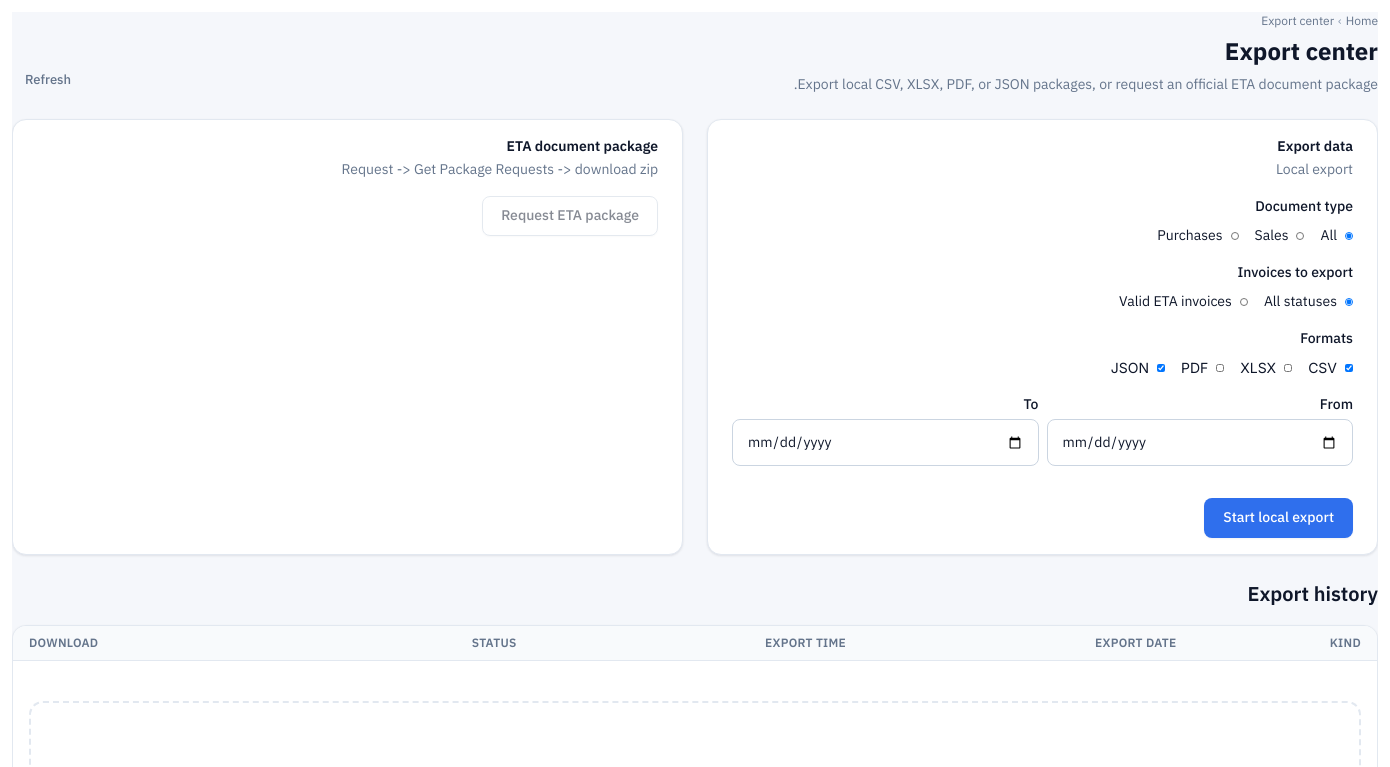
exports page › disables local export when no formats are selected
Step 1. Click the checkbox labelled "CSV" → x=1349, y=368, box 1345,364 -> 1353,372
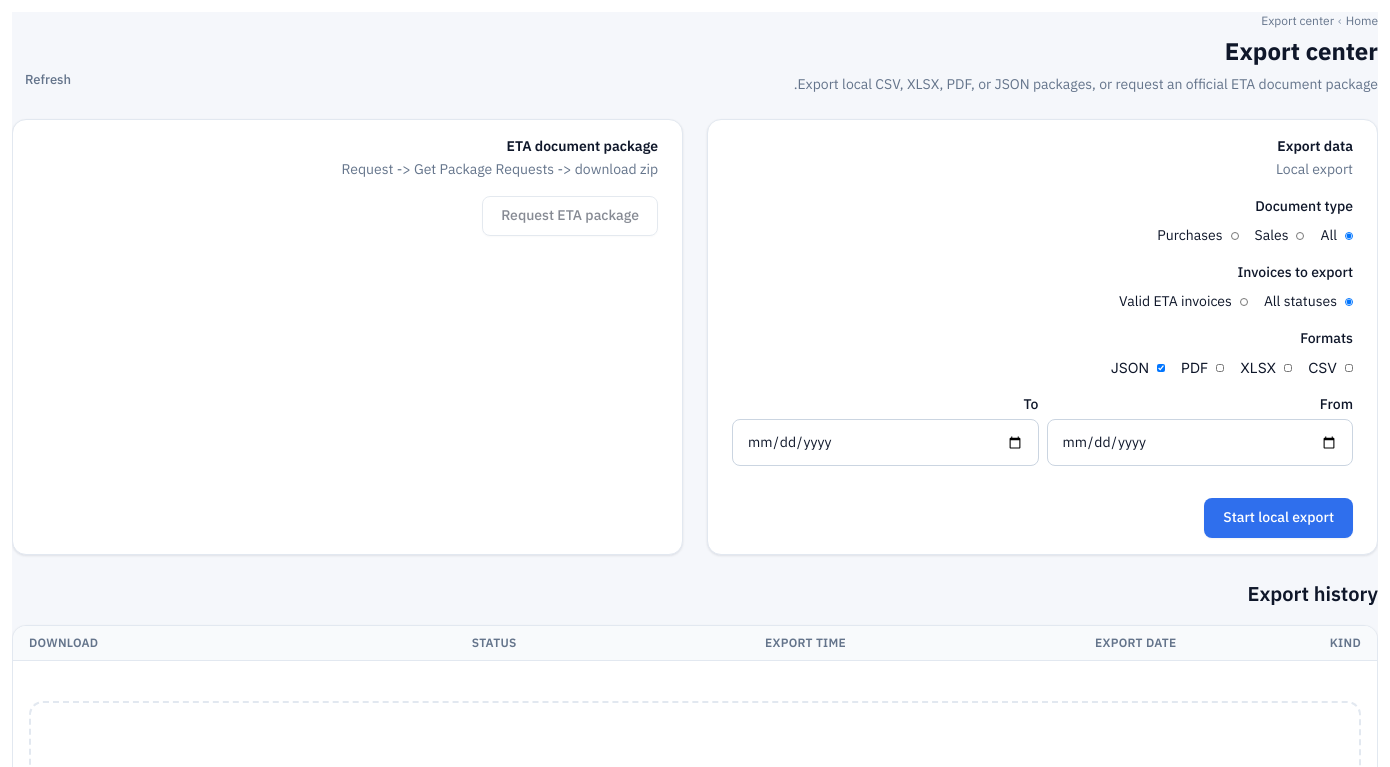
Step 2. Click the checkbox labelled "JSON" → x=1161, y=368, box 1157,364 -> 1165,372
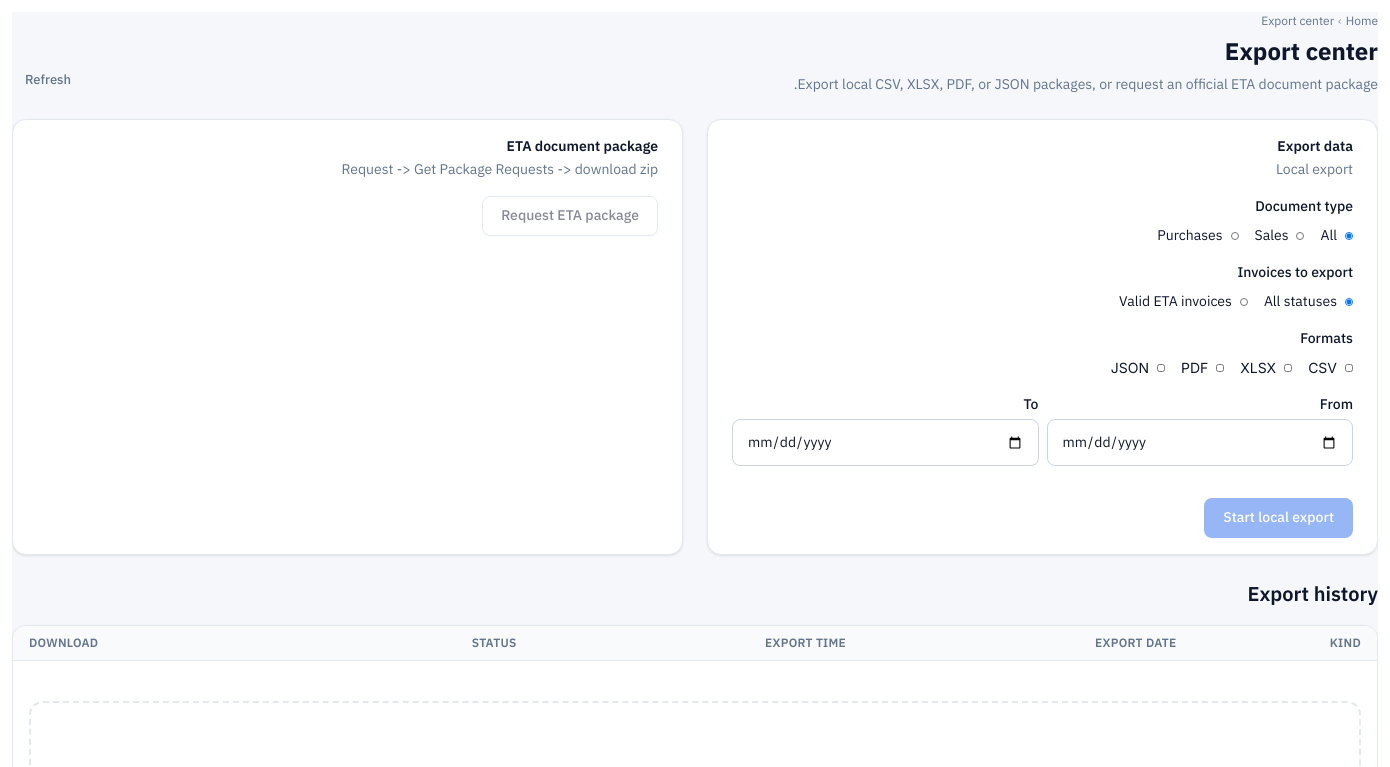
Now the button "Start local export" is disabled, box 1204,498 -> 1353,538
